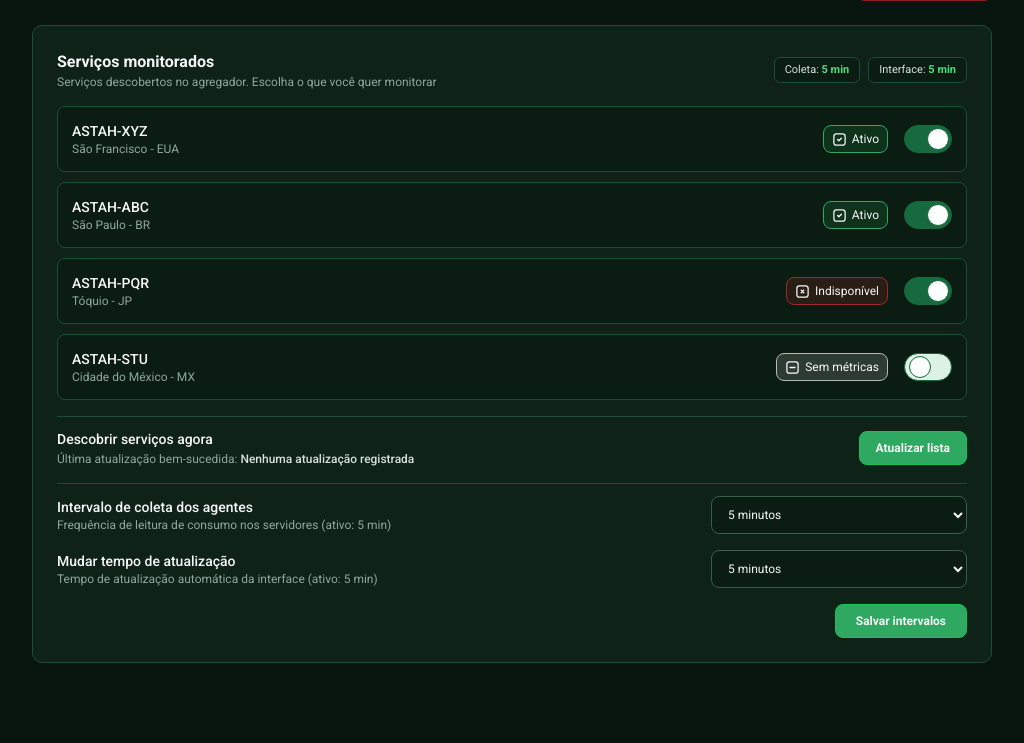
configuração dos intervalos › consulta e salva os intervalos na API com token administrativo
(page scrolled)
Select "15 minutos" in the dropdown labelled "Intervalo de coleta dos agentes" at (839, 515), box left=711, top=496, right=967, bottom=534
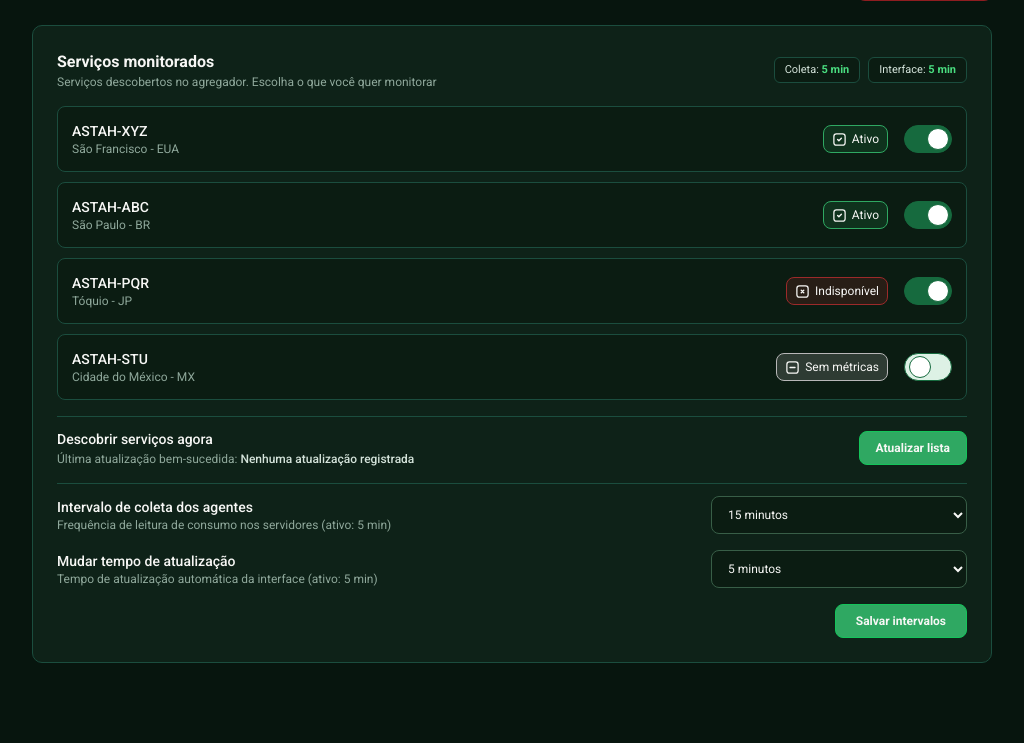
Select "30 minutos" in the dropdown labelled "Mudar tempo de atualização" at (839, 569), box left=711, top=550, right=967, bottom=588
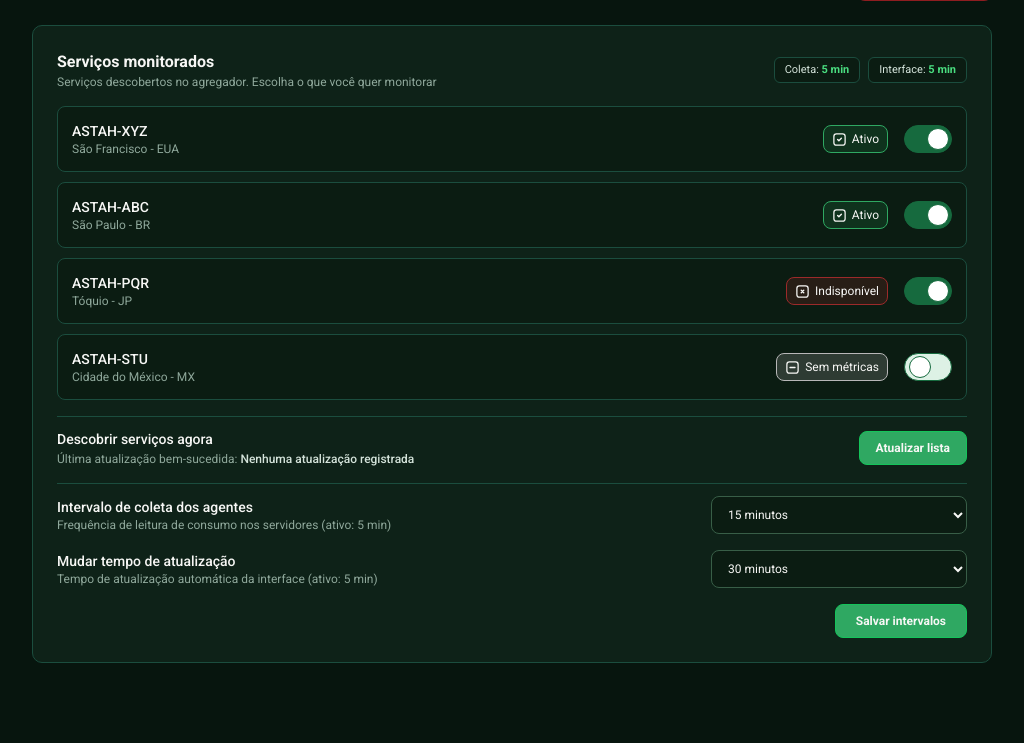
Click the button "Salvar intervalos" at (901, 621), box left=835, top=604, right=967, bottom=638
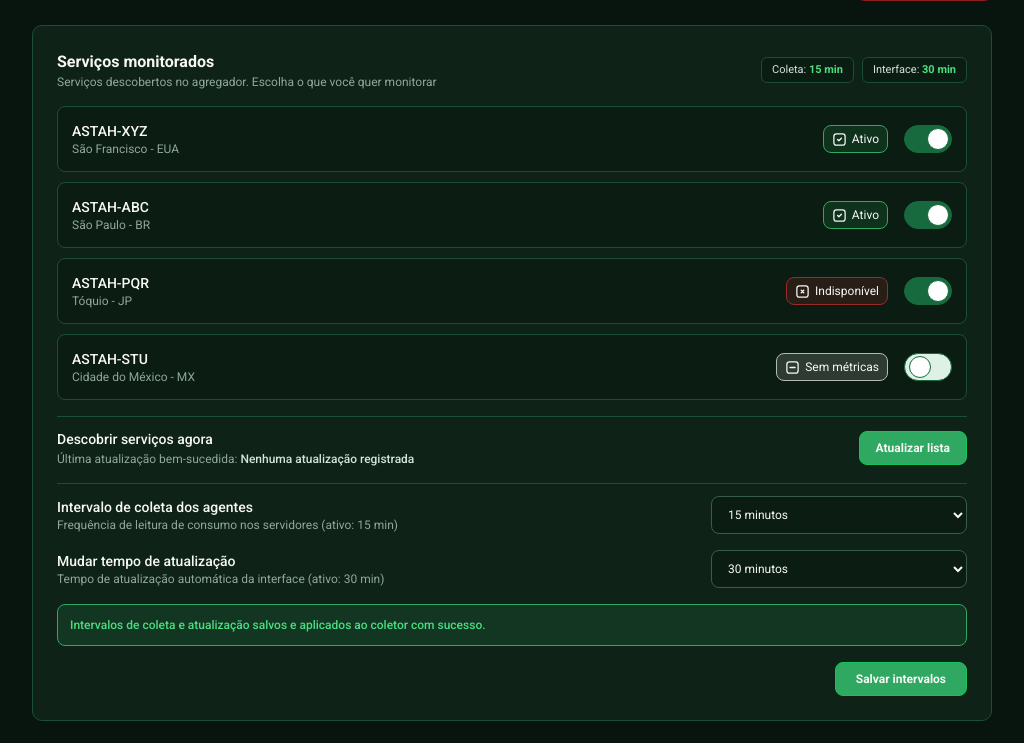
Result: the text "salvos e aplicados ao coletor com sucesso" is shown at left=70, top=618, right=486, bottom=632
